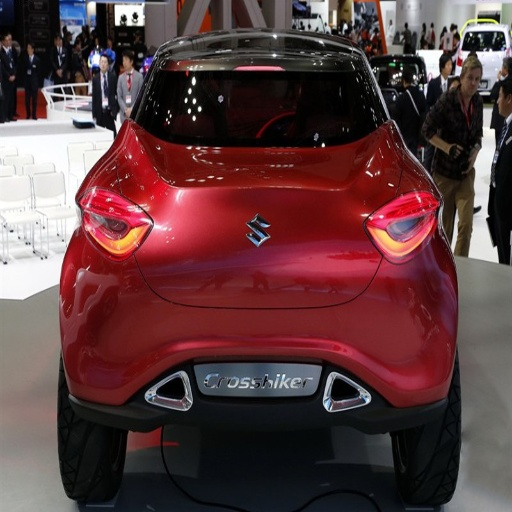back_bumper: (61, 238, 455, 431)
tailgate: (268, 136, 390, 180)
trunk: (115, 149, 430, 307), (225, 426, 292, 477)
